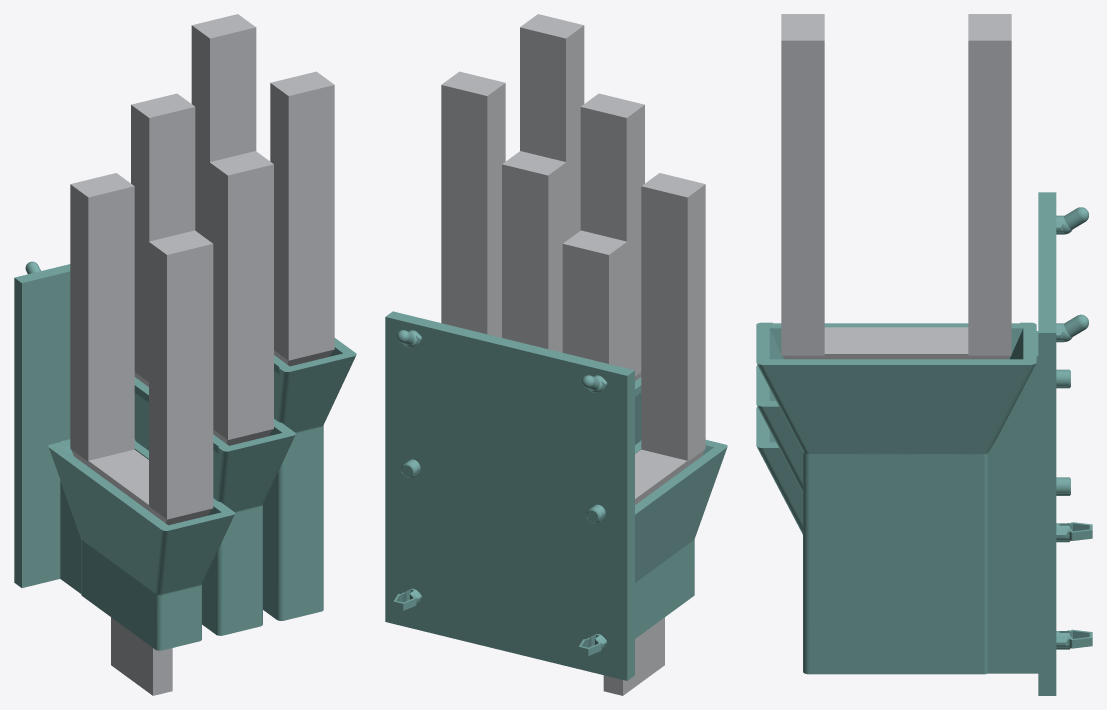
File: loaded.glb
3 renders of one model, left to right at view 1: azimuth 30°, elevation 25°; view 2: azimuth 150°, elevation 25°; view 3: azimuth 270°, elevation 25°, orthographic. The views are drawn at different scales.
Parts seen in each view (by area): view 1: reference_envelope, holder; view 2: holder, reference_envelope; view 3: holder, reference_envelope.
Boxes of the visible parts, <box> form: reference_envelope: <box>70,14,334,695</box>; holder: <box>14,261,356,650</box>; holder: <box>385,311,727,680</box>; reference_envelope: <box>441,14,705,695</box>; holder: <box>756,192,1092,695</box>; reference_envelope: <box>781,14,1011,359</box>.
Bounding box in the file's own units: 0.0996 × 0.2333 × 0.1008.
